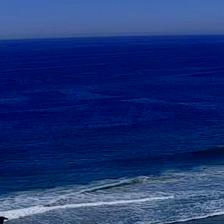surfer: (49, 180, 53, 182), (203, 168, 206, 170)
